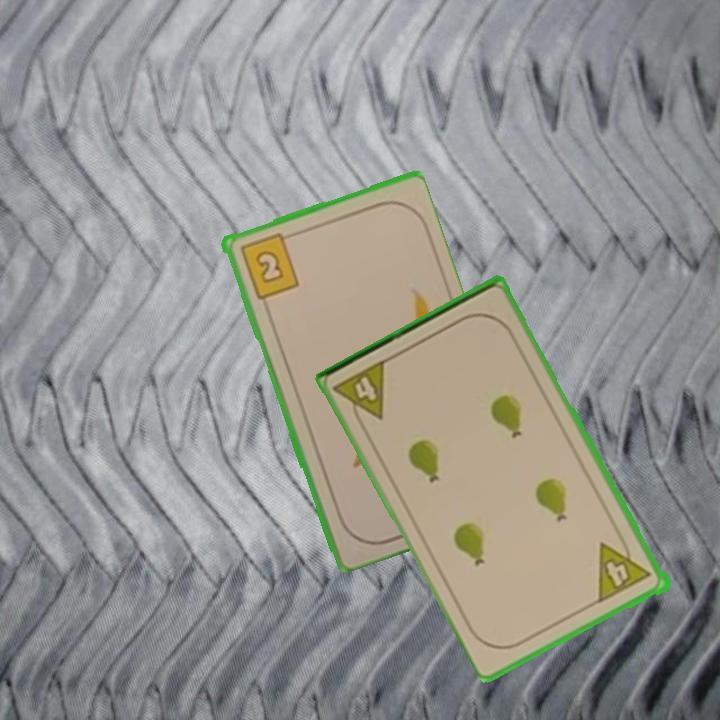2b: (236, 229, 301, 302)
4p: (330, 356, 390, 433), (594, 531, 656, 605)
